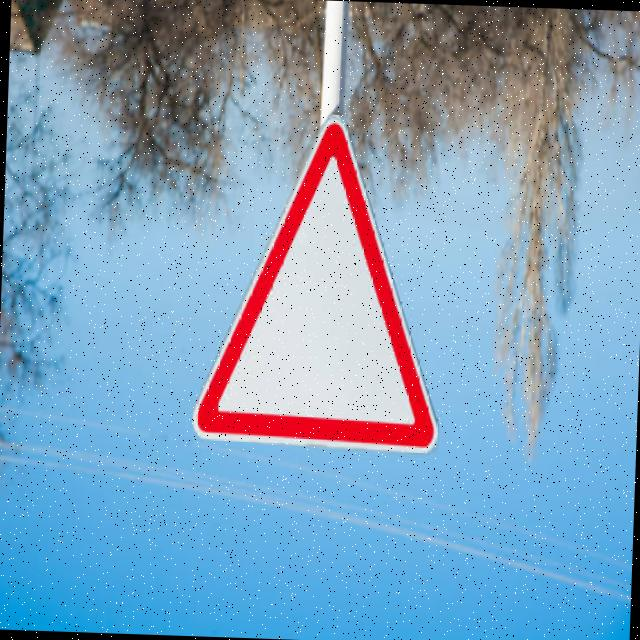give_way: (184, 111, 450, 466)
